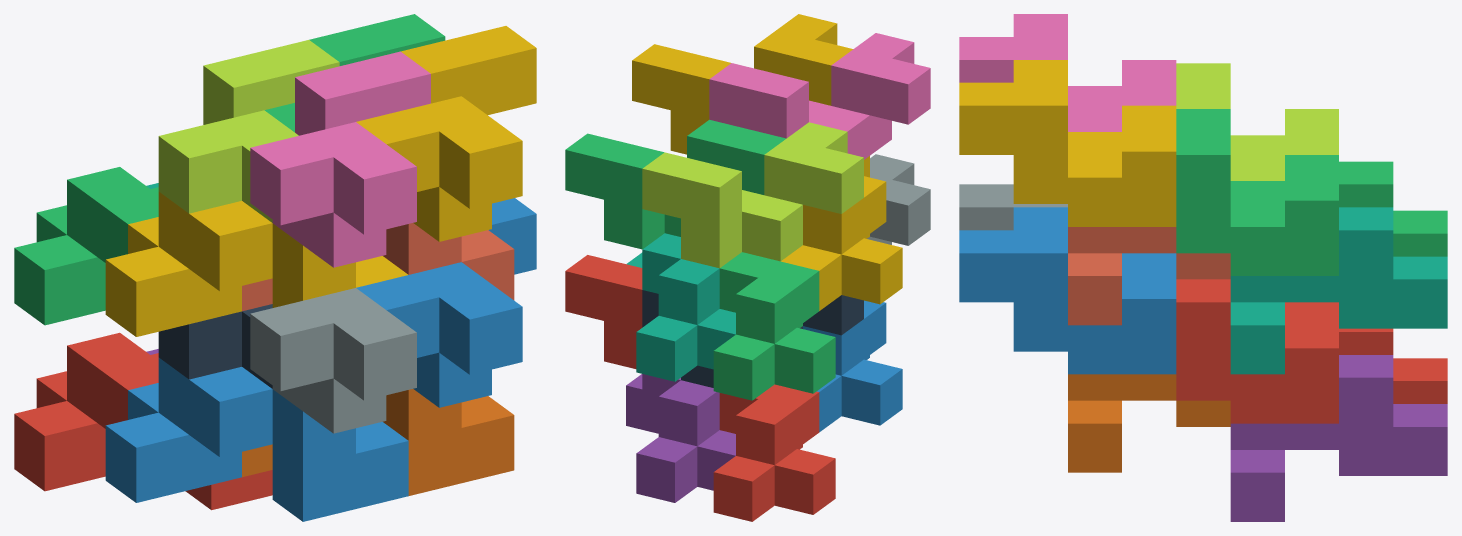
Rendered from tiling.obj.
3 renders of one model, left to right at view 1: azimuth 30°, elevation 25°; view 2: azimuth 150°, elevation 25°; view 3: azimuth 270°, elevation 25°, orthographic. The views are drawn at different scales.
Visible parts, largest first — view 1: copy_1_domain_2, copy_2_domain_4, copy_1_domain_4, copy_2_domain_8, copy_2_domain_2, copy_2_domain_6, copy_1_domain_1, copy_2_domain_3, copy_1_domain_3, copy_1_domain_6, copy_1_domain_8, copy_2_domain_1 (+1 smaller); view 2: copy_2_domain_3, copy_2_domain_4, copy_1_domain_3, copy_1_domain_1, copy_2_domain_7, copy_2_domain_8, copy_1_domain_5, copy_1_domain_7, copy_1_domain_4, copy_1_domain_2, copy_2_domain_5, copy_2_domain_2 (+1 smaller); view 3: copy_2_domain_8, copy_2_domain_6, copy_2_domain_7, copy_1_domain_7, copy_1_domain_5, copy_2_domain_5, copy_2_domain_4, copy_1_domain_6, copy_1_domain_8, copy_2_domain_3, copy_1_domain_3, copy_1_domain_1 (+1 smaller).
Part boxes in pixels (x1,y1,x2,y2): copy_1_domain_2: (105,357,408,521); copy_2_domain_4: (250,51,430,267); copy_1_domain_4: (105,191,408,336); copy_2_domain_8: (356,26,536,241); copy_2_domain_2: (250,288,416,433); copy_2_domain_6: (356,198,536,407); copy_1_domain_1: (14,332,272,510); copy_2_domain_3: (158,40,339,222); copy_1_domain_3: (14,167,158,325); copy_1_domain_6: (242,389,514,495); copy_1_domain_8: (242,223,514,311); copy_2_domain_1: (158,304,272,388); copy_2_domain_3: (642,122,863,268); copy_2_domain_4: (709,33,930,159); copy_1_domain_3: (713,252,835,400); copy_1_domain_1: (713,384,835,521); copy_2_domain_7: (565,119,786,249); copy_2_domain_8: (632,14,853,154); copy_1_domain_5: (626,374,735,502); copy_1_domain_7: (626,233,735,381); copy_1_domain_4: (781,156,902,310); copy_1_domain_2: (803,300,902,432); copy_2_domain_5: (565,255,642,368); copy_2_domain_2: (867,154,930,245); copy_2_domain_8: (959,60,1176,226); copy_2_domain_6: (959,207,1176,374); copy_2_domain_7: (1176,109,1338,275); copy_1_domain_7: (1230,207,1447,374); copy_1_domain_5: (1230,355,1447,521); copy_2_domain_5: (1176,279,1338,423); copy_2_domain_4: (959,14,1176,131); copy_1_domain_6: (1068,374,1230,472); copy_1_domain_8: (1068,227,1230,325); copy_2_domain_3: (1176,63,1338,180); copy_1_domain_3: (1339,161,1447,256); copy_1_domain_1: (1339,328,1447,403).
Bounding box in the file's own units: 7 × 8 × 9.
